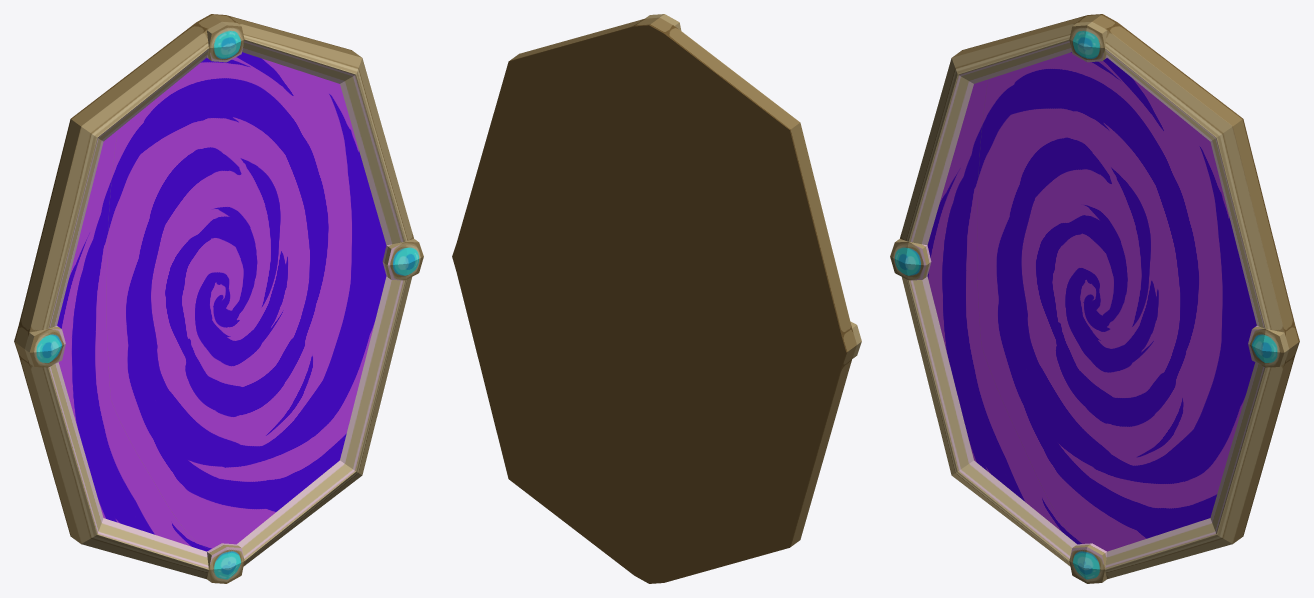
Rendered from mirrer.fbx.
3 views of the same model, side by side, from view 1: azimuth 30°, elevation 25°; view 2: azimuth 150°, elevation 25°; view 3: azimuth 330°, elevation 25° (orthographic).
Visible parts, largest first — view 1: Cube; view 2: Cube; view 3: Cube.
Part boxes in pixels (left/top/right/bottom): Cube: left=14, top=14, right=423, bottom=583; Cube: left=452, top=14, right=861, bottom=583; Cube: left=890, top=14, right=1299, bottom=583.
Bounding box in the file's own units: 280 × 379 × 23.45.
1 material, 1 textured.
